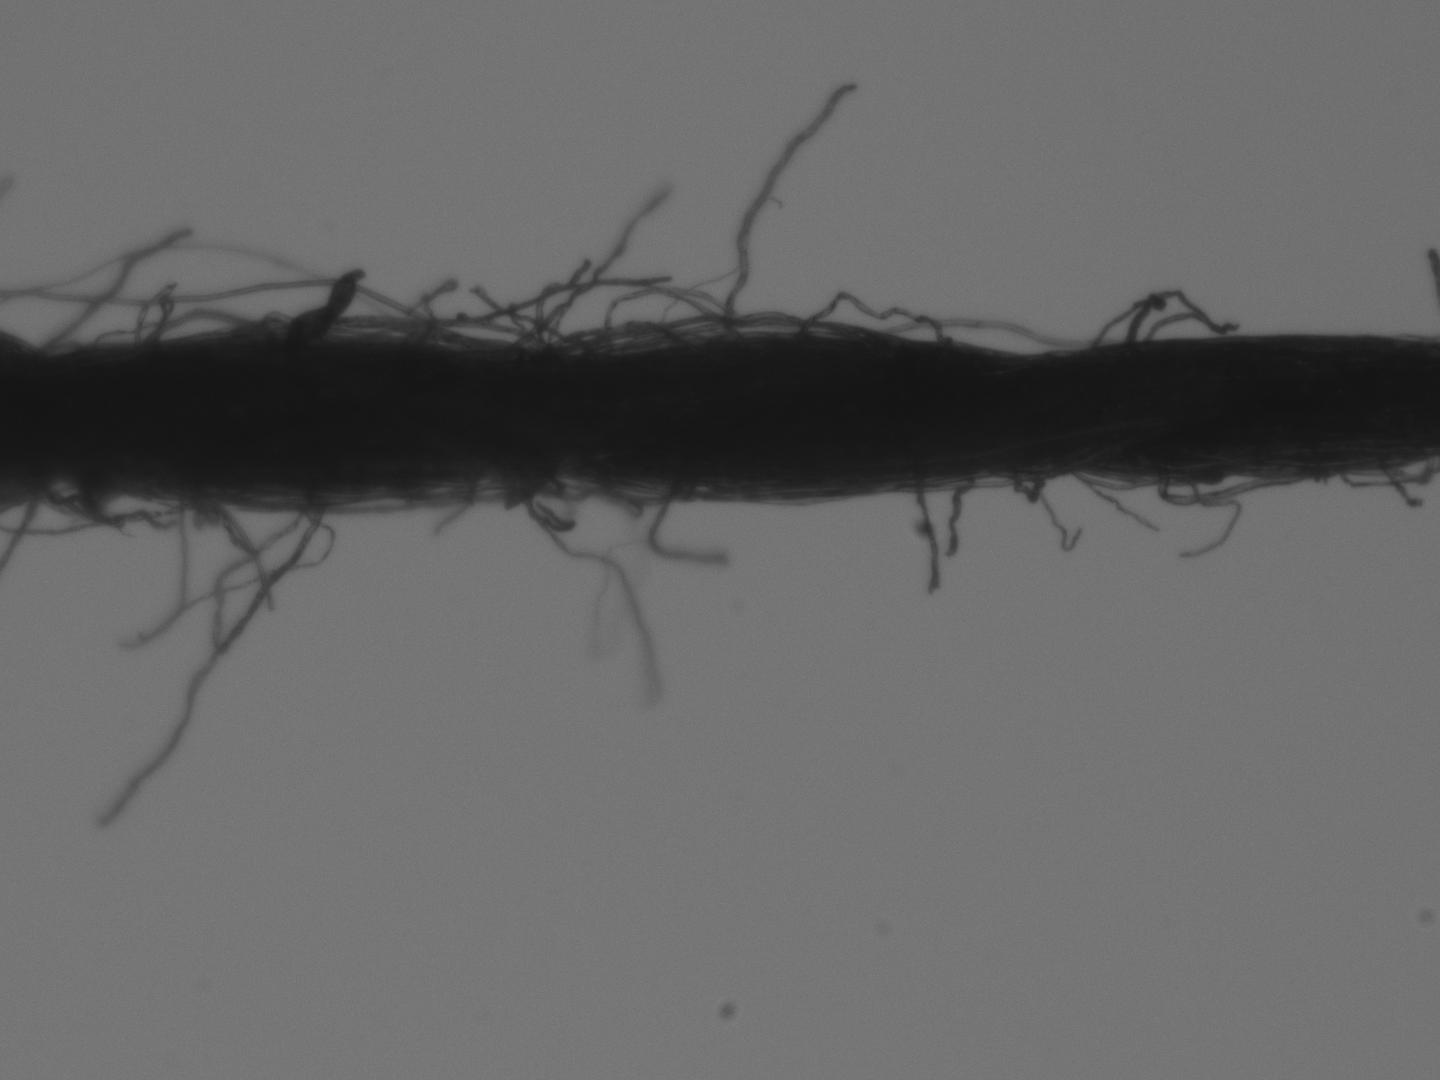loop_fiber: (798, 288, 952, 341), (265, 313, 495, 348), (624, 310, 842, 344), (601, 292, 722, 348), (91, 307, 247, 346), (1160, 472, 1291, 509), (549, 321, 670, 360), (591, 471, 687, 508), (1335, 456, 1431, 489), (134, 289, 178, 347), (32, 478, 93, 509), (1070, 472, 1157, 493), (1007, 469, 1039, 499)
protruding_fiber: (98, 512, 319, 824), (725, 81, 856, 339), (511, 188, 675, 353), (31, 223, 194, 354), (947, 475, 975, 551), (918, 480, 937, 591)
